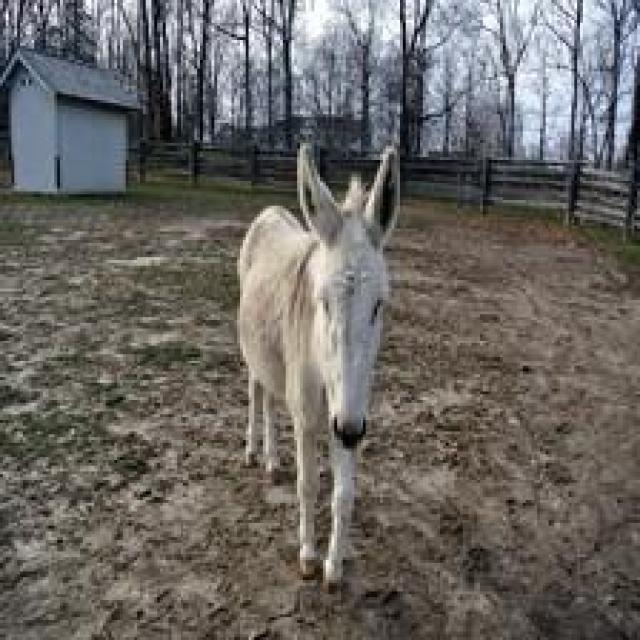Donkey: (231, 140, 400, 591)
